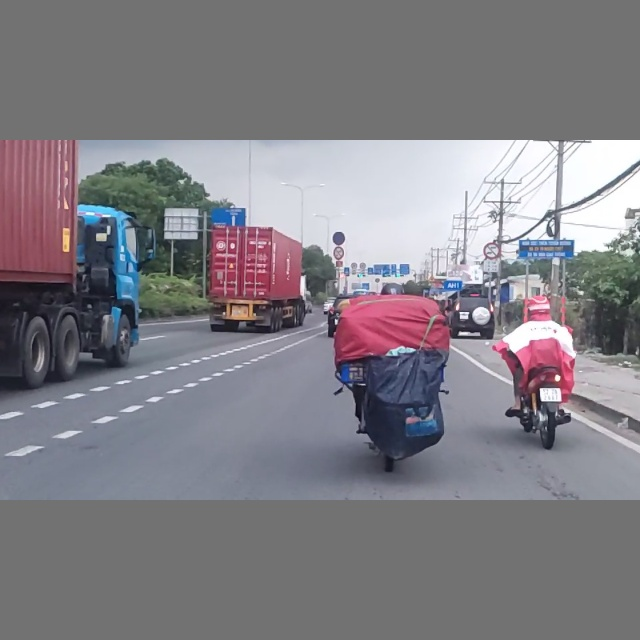P.107: (484, 243, 501, 259)
P.111: (334, 247, 344, 260)
P.130: (331, 231, 346, 245)
